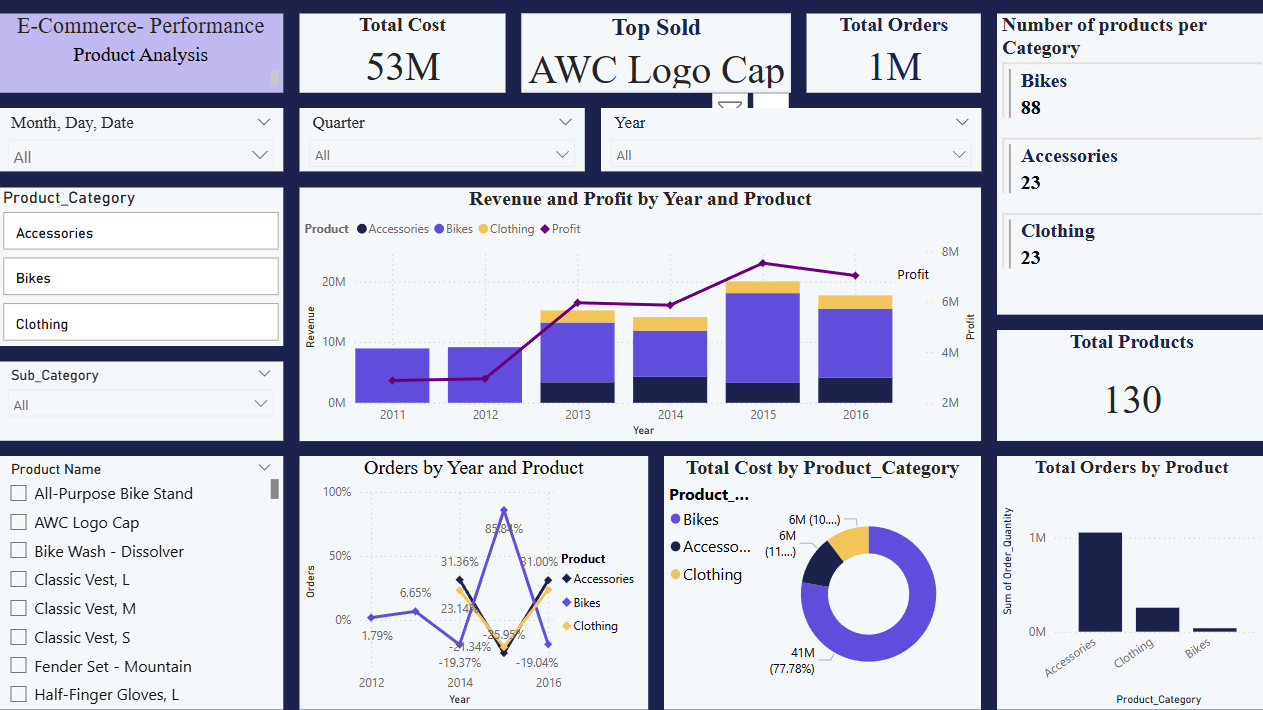

Layout of this report page (visuals, bound fields, positions):
{"tool":"powerbi","page":{"name":"Page 2","canvas":[1280,720],"ordinal":1},"visuals":[{"type":"slicer","fields":{"Values":["sales_data.Product"]},"box":[0,464,288,256],"z":0},{"type":"advancedSlicerVisual","fields":{"Values":["sales_data.Product_Category"]},"box":[0,192,288,160],"z":1000},{"type":"slicer","fields":{"Values":["sales_data.Sub_Category"]},"box":[0,368,288,80],"z":2000},{"type":"lineChart","fields":{"Y":["sales_data.Order_Quantity YoY%"],"Category":["sales_data.Date.Variation.Date Hierarchy.Year"],"Series":["sales_data.Product_Category"]},"box":[304,464,352,256],"z":3000},{"type":"card","title":"Total Products","fields":{"Values":["Count(sales_data.Product)"]},"box":[1008,336,272,112],"z":4000},{"type":"card","title":"Total Orders","fields":{"Values":["Sum(sales_data.Order_Quantity)"]},"box":[816,16,176,80],"z":5000},{"type":"lineStackedColumnComboChart","fields":{"Category":["sales_data.Date.Variation.Date Hierarchy.Year"],"Y2":["Sum(sales_data.Profit)"],"Series":["sales_data.Product_Category"],"Y":["Sum(sales_data.Revenue)"]},"box":[304,192,688,256],"z":6000},{"type":"card","title":"Top Sold","fields":{"Values":["sales_data.First Product max per Order_Quantity 2"]},"box":[528,16,272,80],"z":7000},{"type":"slicer","fields":{"Values":["sales_data.Date.Variation.Date Hierarchy.Year"]},"box":[608,112,384,64],"z":8000},{"type":"card","title":"Total Cost","fields":{"Values":["Sum(sales_data.Cost)"]},"box":[304,16,208,80],"z":9000},{"type":"donutChart","fields":{"Y":["Sum(sales_data.Cost)"],"Category":["sales_data.Product_Category"]},"box":[672,464,320,256],"z":10000},{"type":"textbox","title":"E-Commerce- Performance","box":[0,16,288,80],"z":11000},{"type":"clusteredColumnChart","title":"Total Orders by Product","fields":{"Y":["Sum(sales_data.Order_Quantity)"],"Category":["sales_data.Product_Category"]},"box":[1008,464,272,256],"z":12000},{"type":"multiRowCard","title":"Number of products per Category","fields":{"Values":["Count(sales_data.Product Name)","sales_data.Product_Category"]},"box":[1008,16,272,304],"z":13000},{"type":"slicer","fields":{"Values":["sales_data.Date.Variation.Date Hierarchy.Quarter"]},"box":[304,112,288,64],"z":14000},{"type":"slicer","fields":{"Values":["sales_data.Date.Variation.Date Hierarchy.Month","sales_data.Date.Variation.Date Hierarchy.Day","sales_data.Date"]},"box":[0,112,288,64],"z":15000}]}

Visuals, with their boxes in screenshot pixels (x1, y1, x2, y2), scaled from the page's 1280x720 canvas onto the 1263x710 screenshot:
slicer - sales_data.Product: x1=0, y1=458, x2=284, y2=709
advancedSlicerVisual - sales_data.Product_Category: x1=0, y1=189, x2=284, y2=347
slicer - sales_data.Sub_Category: x1=0, y1=363, x2=284, y2=442
lineChart - sales_data.Order_Quantity YoY% x sales_data.Date.Variation.Date Hierarchy.Year: x1=300, y1=458, x2=647, y2=709
"Total Products" card: x1=995, y1=331, x2=1262, y2=442
"Total Orders" card: x1=805, y1=16, x2=979, y2=95
lineStackedColumnComboChart - sales_data.Date.Variation.Date Hierarchy.Year x Sum(sales_data.Profit): x1=300, y1=189, x2=979, y2=442
"Top Sold" card: x1=521, y1=16, x2=789, y2=95
slicer - sales_data.Date.Variation.Date Hierarchy.Year: x1=600, y1=110, x2=979, y2=174
"Total Cost" card: x1=300, y1=16, x2=505, y2=95
donutChart - Sum(sales_data.Cost) x sales_data.Product_Category: x1=663, y1=458, x2=979, y2=709
"E-Commerce- Performance" textbox: x1=0, y1=16, x2=284, y2=95
"Total Orders by Product" clusteredColumnChart: x1=995, y1=458, x2=1262, y2=709
"Number of products per Category" multiRowCard: x1=995, y1=16, x2=1262, y2=316
slicer - sales_data.Date.Variation.Date Hierarchy.Quarter: x1=300, y1=110, x2=584, y2=174
slicer - sales_data.Date.Variation.Date Hierarchy.Month x sales_data.Date.Variation.Date Hierarchy.Day: x1=0, y1=110, x2=284, y2=174
